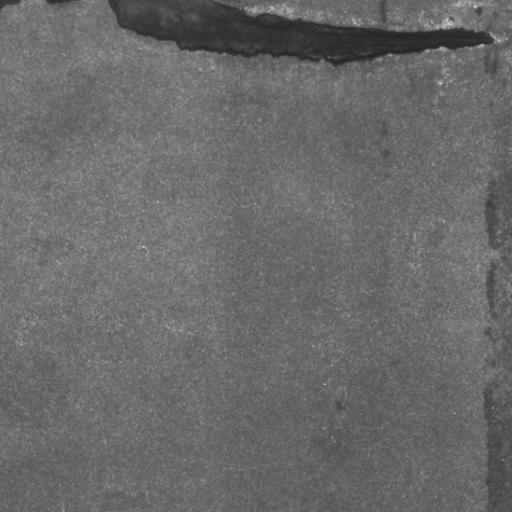aokeng: (108, 1, 496, 69)
